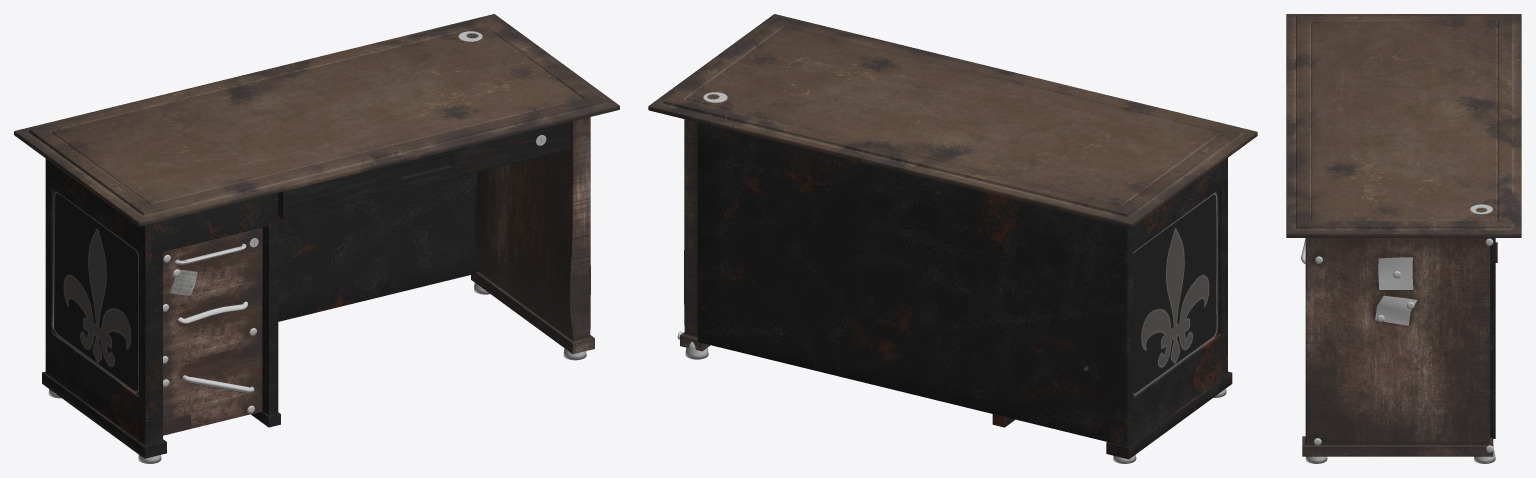
Rendered from Meja Office Low Poli.fbx.
The picture shows the model from 3 angles, left to right: view 1: azimuth 30°, elevation 25°; view 2: azimuth 150°, elevation 25°; view 3: azimuth 270°, elevation 25°; orthographic projection. The views are drawn at different scales.
Parts seen in each view (by area): view 1: Cube.001, Kaki Meja.001, Low Poly, Laci_Low Poly, Laci .003, Laci .004, Laci .005, Kaki Meja Tengah Low; view 2: Kaki Meja.001, Cube.001, Low Poly; view 3: Cube.001, Low Poly, Kaki Meja.001, Kertas.001, Kertas, Paku_LowPoli.
Part boxes in pixels (x1,y1,x2,y2): Cube.001: (14,14,619,226); Kaki Meja.001: (42,158,478,458); Low Poly: (471,117,594,353); Laci_Low Poly: (278,122,570,219); Laci .003: (163,342,262,435); Laci .004: (163,285,262,365); Laci .005: (163,228,262,307); Kaki Meja Tengah Low: (251,193,280,427); Kaki Meja.001: (697,122,1232,459); Cube.001: (648,14,1257,227); Low Poly: (680,119,710,351); Cube.001: (1286,14,1521,237); Low Poly: (1302,238,1493,456); Kaki Meja.001: (1490,238,1497,438); Kertas.001: (1378,257,1413,289); Kertas: (1375,295,1417,325); Paku_LowPoli: (1313,238,1493,452).
Bounding box in the file's own units: 206 × 106 × 93.24.
